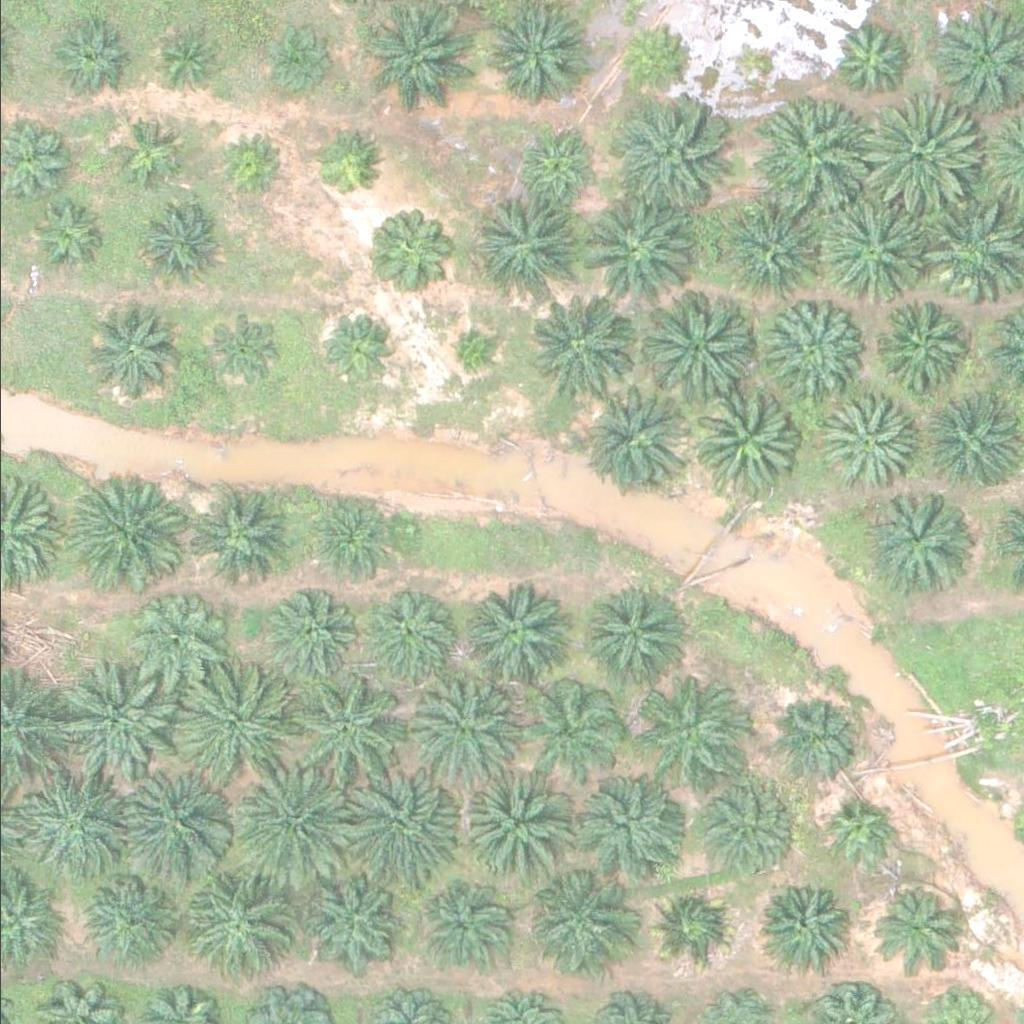Kelapa_Sawit: (72, 478, 186, 591), (56, 662, 169, 775), (235, 771, 348, 884), (346, 771, 459, 884), (464, 770, 577, 883), (579, 771, 692, 884), (404, 668, 517, 781), (175, 670, 288, 783), (639, 287, 752, 400), (522, 284, 635, 397), (758, 102, 871, 215), (610, 99, 723, 212), (17, 767, 131, 879), (120, 775, 234, 887), (579, 191, 693, 303), (820, 195, 934, 307), (868, 97, 982, 209), (361, 4, 474, 116), (520, 867, 633, 979), (170, 869, 283, 981), (290, 675, 403, 787), (687, 383, 800, 495), (579, 380, 692, 492), (470, 196, 583, 308), (79, 299, 180, 399), (488, 6, 589, 106), (294, 870, 395, 970), (634, 672, 735, 772), (522, 678, 623, 778), (368, 584, 469, 684), (460, 584, 561, 684), (586, 590, 687, 690), (188, 486, 289, 586), (862, 487, 963, 587), (813, 394, 914, 494), (868, 292, 969, 392), (760, 299, 861, 399), (700, 779, 800, 879), (126, 591, 226, 691), (267, 587, 367, 687), (912, 392, 1012, 492), (723, 206, 823, 306), (197, 308, 286, 396), (81, 873, 169, 961), (42, 14, 130, 102), (509, 123, 597, 211), (771, 694, 859, 782), (372, 208, 460, 296), (133, 202, 221, 290), (867, 885, 955, 972), (762, 881, 850, 968), (316, 306, 404, 393), (644, 881, 732, 968), (423, 878, 511, 965), (313, 493, 401, 580), (824, 13, 912, 100), (619, 20, 695, 95), (257, 23, 333, 98), (817, 797, 893, 872), (145, 21, 221, 96), (308, 128, 383, 203), (108, 113, 183, 188), (24, 201, 99, 276), (212, 128, 287, 203), (439, 325, 489, 375)
